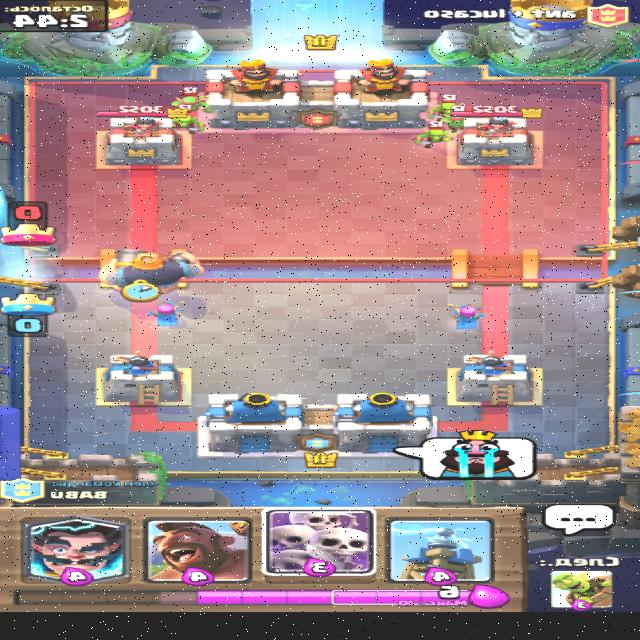Enemy-Goblin: (417, 120, 456, 149), (429, 93, 465, 122), (174, 103, 207, 134)
Enemy-SpearGoblin: (171, 86, 214, 114), (441, 104, 472, 129)
Player-Archer: (148, 299, 189, 327), (448, 302, 489, 329)
Player-RoyalGiant: (97, 248, 208, 288)
